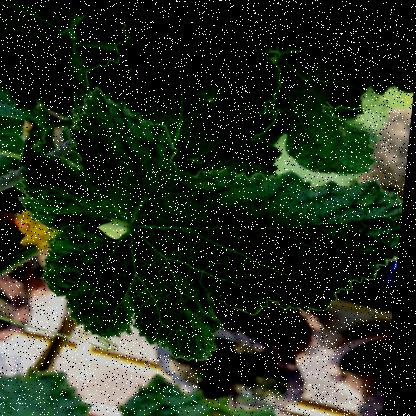Normal: (13, 78, 409, 382)
